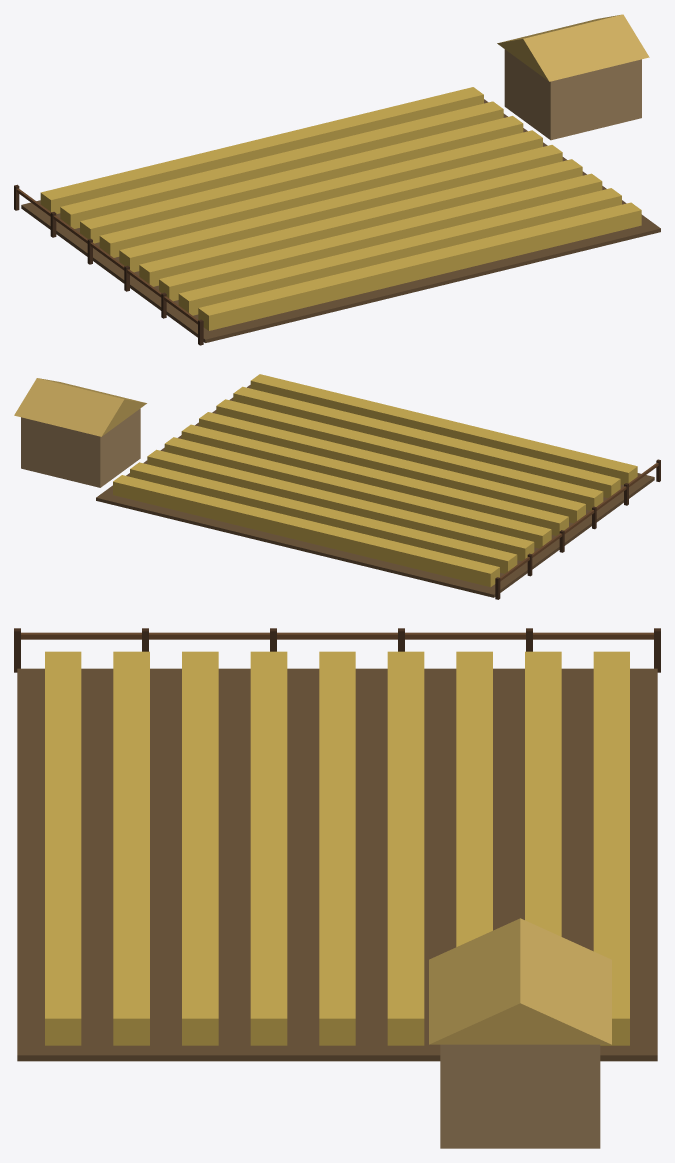
The model's file is farm.glb.
The picture shows the model from 3 angles, top to bottom: view 1: azimuth 30°, elevation 25°; view 2: azimuth 150°, elevation 25°; view 3: azimuth 270°, elevation 25°; orthographic projection. The views are drawn at different scales.
Parts seen in each view (by area): view 1: Farm; view 2: Farm; view 3: Farm.
Boxes of the visible parts, x1,y1,x2,y2 form: Farm: [14, 14, 660, 345]; Farm: [14, 374, 660, 599]; Farm: [14, 628, 660, 1148].
Bounding box in the file's own units: 24.97 × 3.6 × 14.15.
